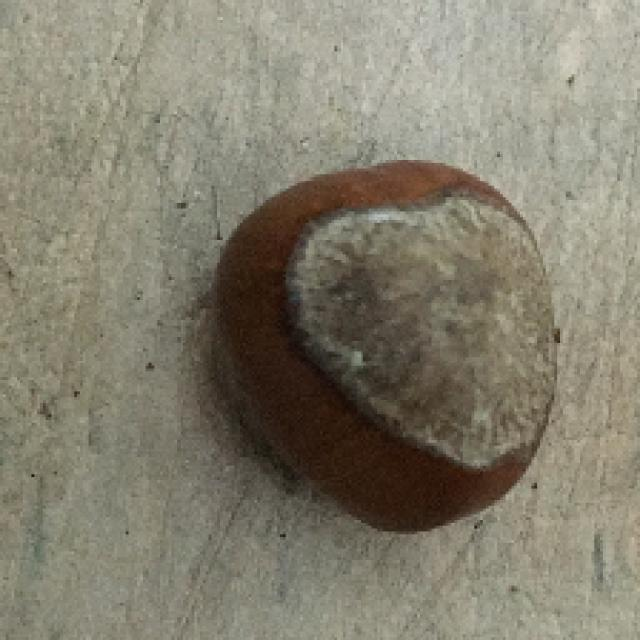qualityHazelnut: (215, 153, 563, 563)
